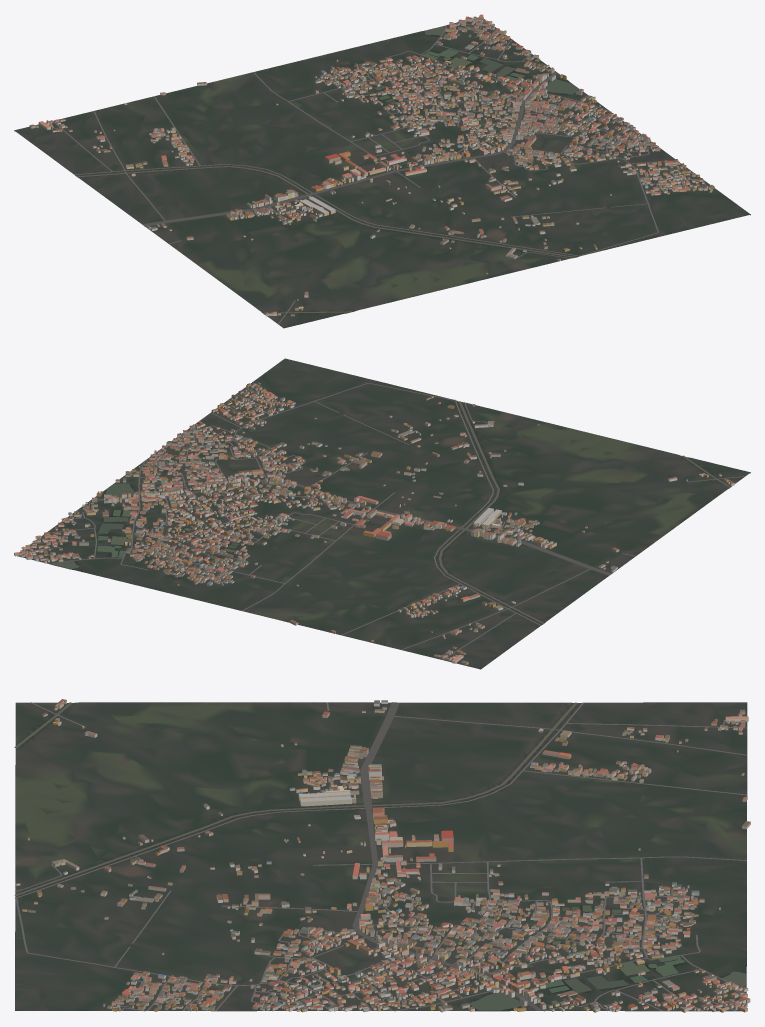
3 views of the same model, one above another, from view 1: azimuth 30°, elevation 25°; view 2: azimuth 150°, elevation 25°; view 3: azimuth 270°, elevation 25° (orthographic). The views are drawn at different scales.
Visible parts, largest first — view 1: ground, buildings, roads, water; view 2: ground, buildings, roads, water; view 3: ground, buildings, roads, water.
Boxes of the visible parts, <box> form: ground: <box>14,18,750,328</box>; buildings: <box>29,14,714,316</box>; roads: <box>49,19,709,324</box>; water: <box>77,26,622,313</box>; ground: <box>17,358,750,669</box>; buildings: <box>14,382,734,665</box>; roads: <box>34,383,744,659</box>; water: <box>53,401,730,623</box>; ground: <box>15,702,747,1011</box>; buildings: <box>15,699,750,1012</box>; roads: <box>15,702,746,1011</box>; water: <box>14,702,746,1010</box>.
Bounding box in the file's own units: 1410 × 22.97 × 1412.
